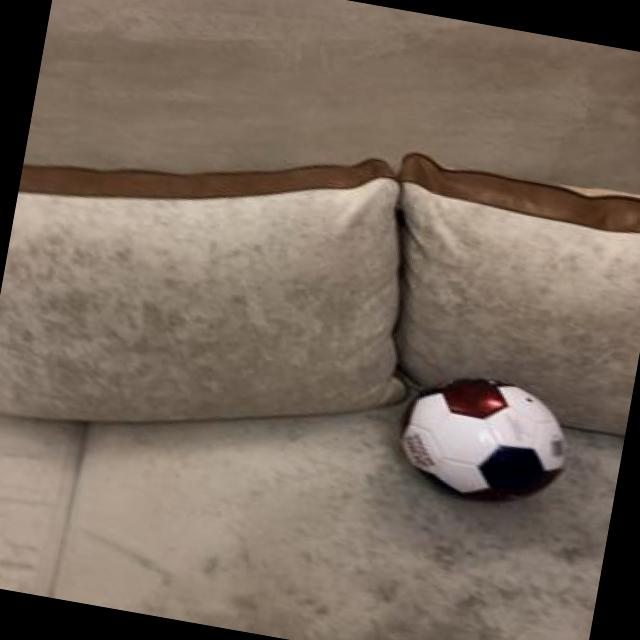Soccer Ball: (384, 360, 578, 513)
